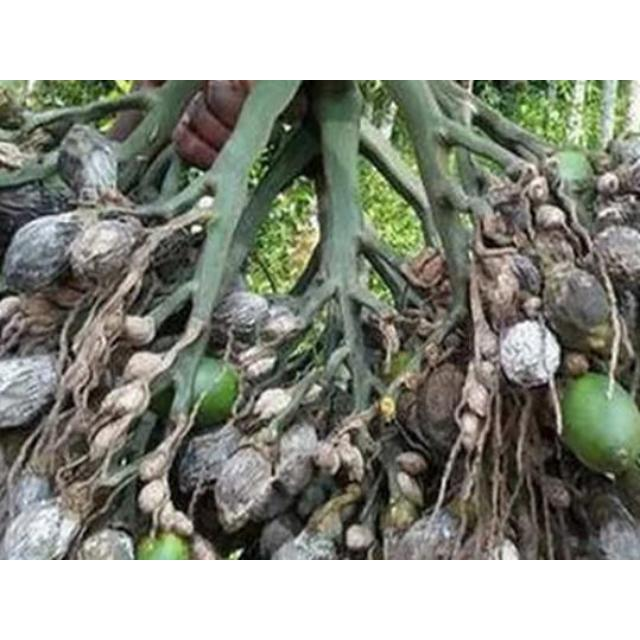damaged: (3, 214, 83, 292), (212, 445, 280, 531), (546, 270, 614, 354), (68, 218, 138, 286), (57, 124, 119, 200), (177, 427, 240, 498), (211, 290, 271, 350), (146, 224, 202, 286), (359, 304, 407, 372), (592, 226, 640, 292), (533, 212, 579, 272), (490, 188, 534, 242), (258, 304, 304, 348), (78, 528, 134, 560), (396, 384, 426, 440), (100, 384, 146, 420), (381, 494, 422, 534), (124, 352, 172, 386), (251, 388, 295, 424), (90, 419, 130, 457), (504, 253, 542, 293), (596, 202, 634, 236), (463, 376, 493, 418), (64, 359, 98, 395), (242, 351, 280, 383), (138, 479, 170, 515), (138, 448, 170, 482), (120, 314, 156, 344), (158, 508, 194, 538), (337, 442, 365, 480), (475, 322, 501, 362), (395, 471, 425, 504), (474, 358, 501, 394), (344, 524, 376, 552), (395, 450, 429, 476), (535, 204, 567, 230), (314, 443, 340, 472), (0, 296, 22, 328), (525, 175, 549, 203), (458, 411, 480, 441), (596, 172, 620, 196), (520, 296, 544, 318)
